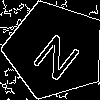N: (30, 25, 89, 83)
